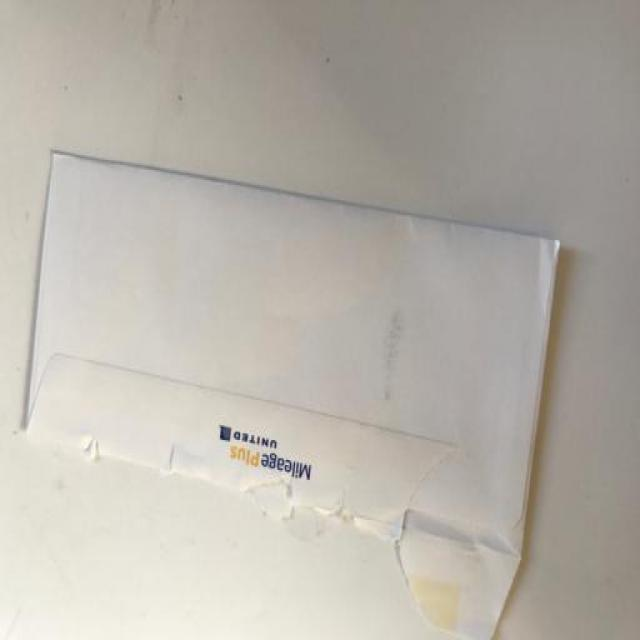paper: (16, 126, 591, 640)
